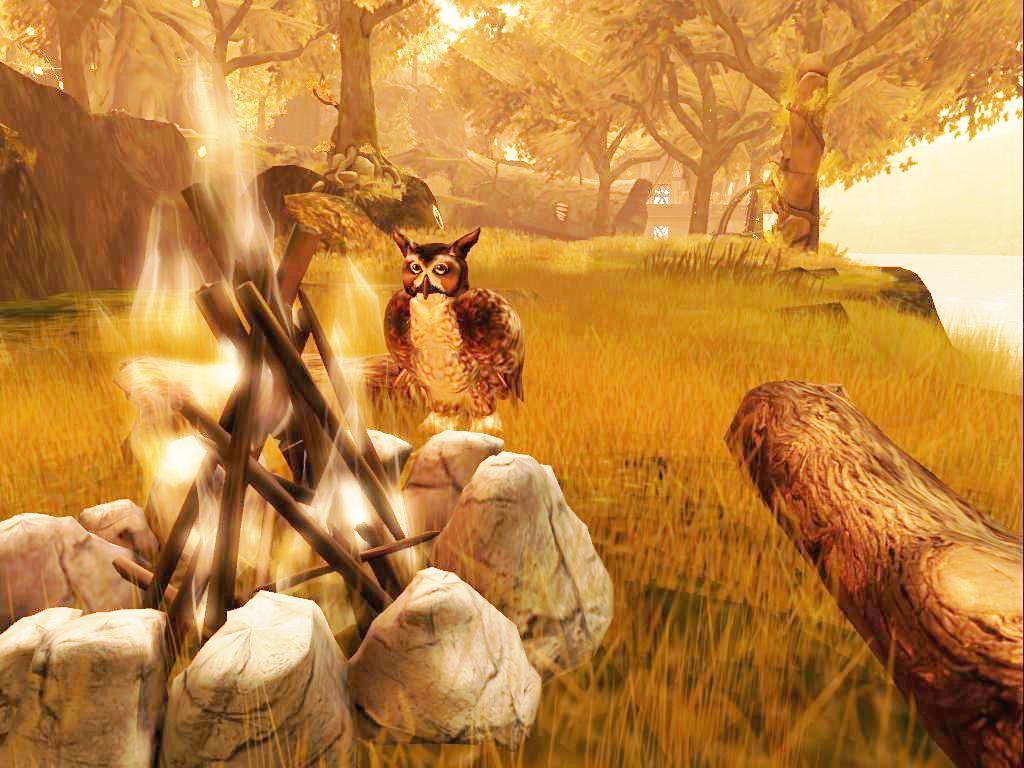Owl: (379, 216, 522, 434)
